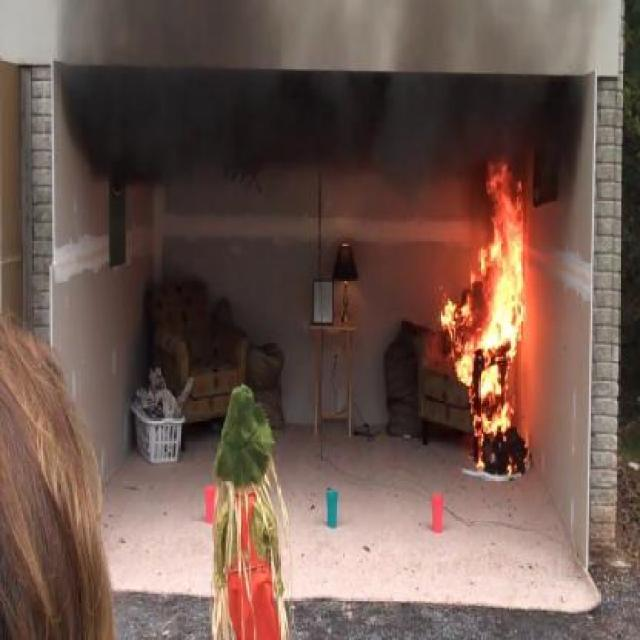fire: (433, 180, 539, 482)
smoke: (56, 12, 622, 185)
